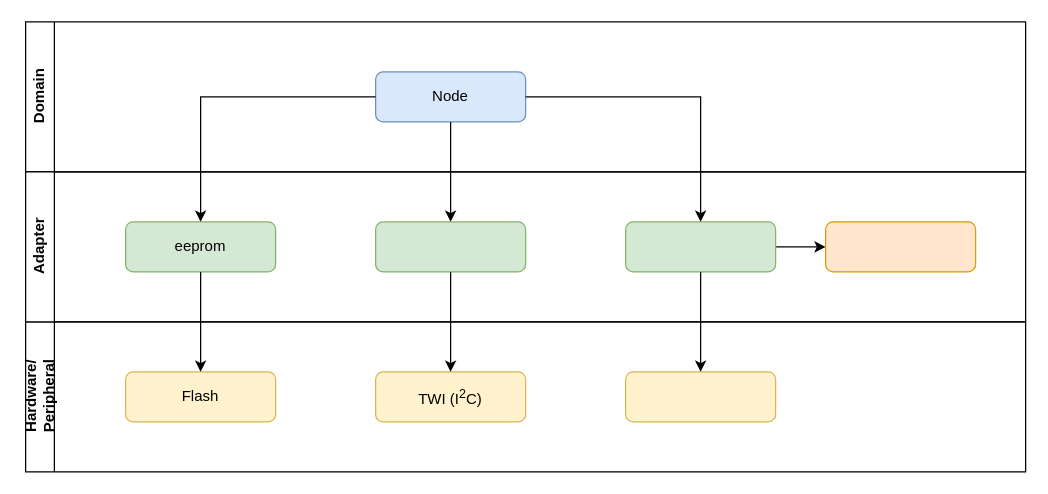
Image size: 1048x494. Some labels were removed from this diagram. Here are the shapes that lost their labels. From the top down, the centre of each, then its label:
the point at 450,246: INA219
the point at 700,246: MODEM
the point at 900,246: libavrxbee
the point at 700,396: USART0
